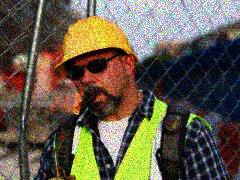helmet: (54, 16, 140, 117)
